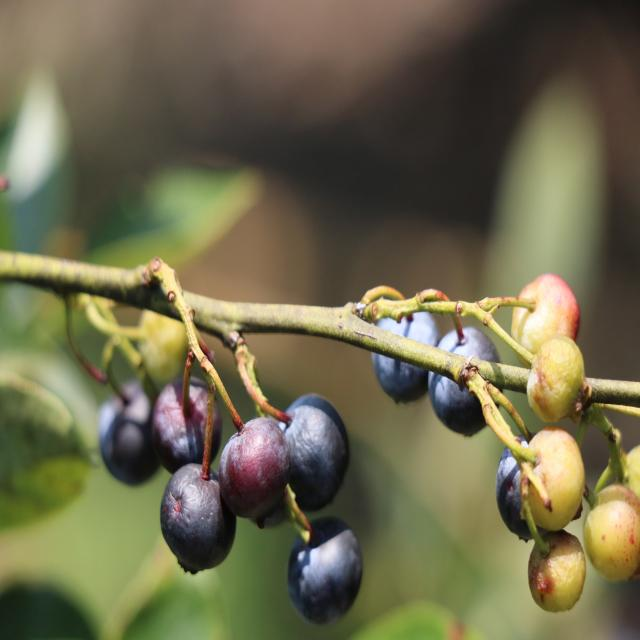blueberry: (423, 317, 509, 447), (155, 458, 241, 573), (280, 513, 368, 625), (280, 386, 353, 512), (214, 409, 288, 519), (368, 295, 442, 405), (96, 382, 166, 492), (148, 374, 225, 465), (492, 425, 546, 549)
blueberry-unripe: (526, 426, 580, 532), (512, 272, 578, 354), (524, 340, 586, 422), (529, 529, 584, 613), (589, 488, 639, 578)
